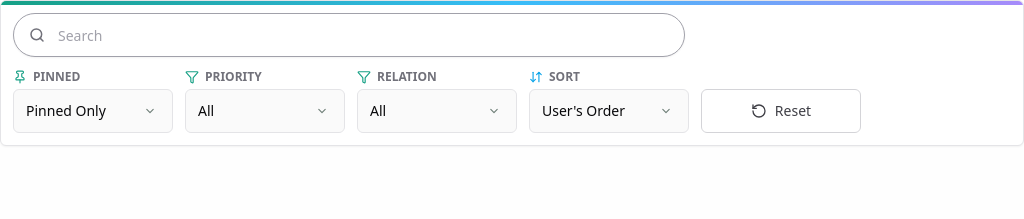
ListControls › restores pinned-only and keeps it enabled while changing other controls
Check: the dropdown labelled "Pinned" shows "Pinned only", box [13,89,173,133]
Select "High" in the dropdown labelled "Priority": (265, 111) [185,89,345,133]
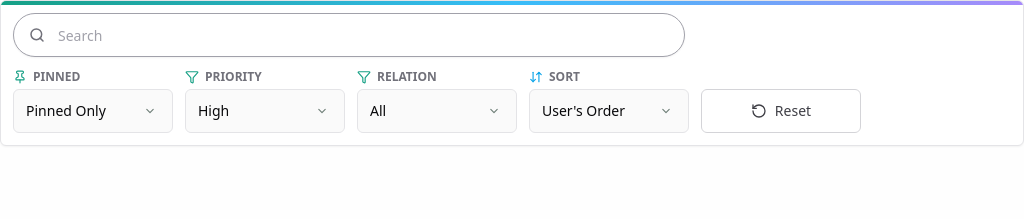
Click the button "Reset": (781, 111) [701,89,861,133]
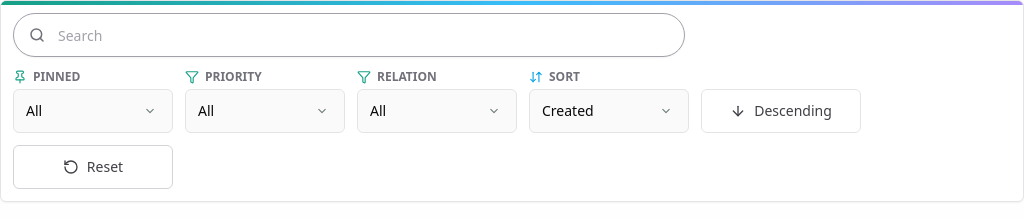
Check: the dropdown labelled "Pinned" shows "All", box [13,89,173,133]
